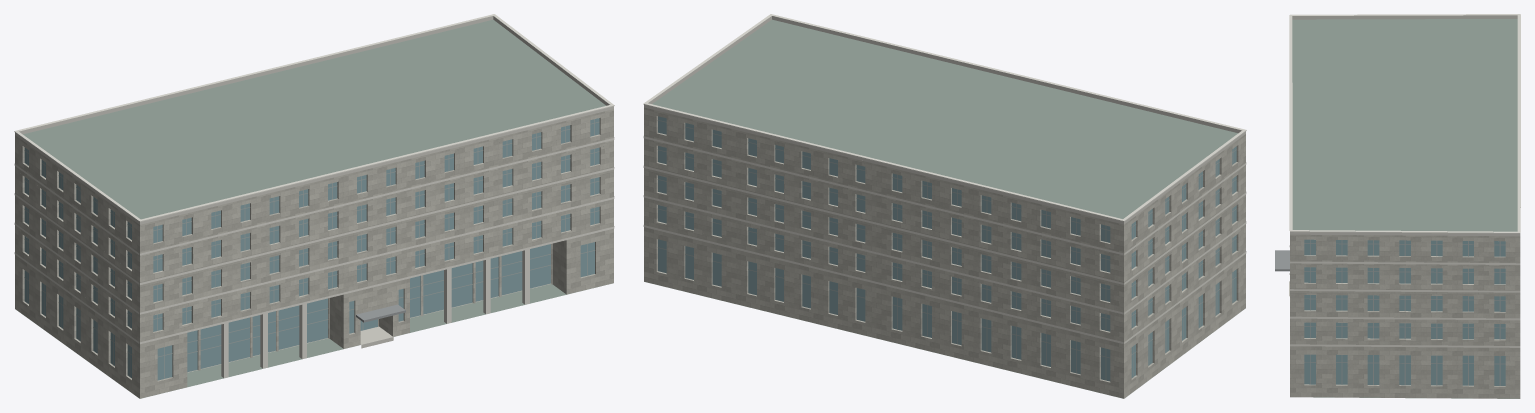
3 renders of one model, left to right at view 1: azimuth 30°, elevation 25°; view 2: azimuth 150°, elevation 25°; view 3: azimuth 270°, elevation 25°, orthographic. The views are drawn at different scales.
Parts seen in each view (by area): view 1: hongjae__wall, hongjae__roof, hongjae__glass, hongjae__trim, hongjae__parapet, hongjae__frame, hongjae__column; view 2: hongjae__wall, hongjae__roof, hongjae__glass, hongjae__trim, hongjae__parapet, hongjae__frame; view 3: hongjae__roof, hongjae__wall, hongjae__glass, hongjae__trim, hongjae__parapet, hongjae__frame, hongjae__canopy.
Part boxes in pixels (x1=…): hongjae__wall: x1=15, y1=109, x2=613, y2=398; hongjae__roof: x1=17, y1=19, x2=612, y2=398; hongjae__glass: x1=24, y1=118, x2=599, y2=380; hongjae__trim: x1=14, y1=14, x2=614, y2=344; hongjae__parapet: x1=15, y1=16, x2=613, y2=224; hongjae__frame: x1=24, y1=119, x2=599, y2=378; hongjae__column: x1=221, y1=249, x2=529, y2=378; hongjae__wall: x1=644, y1=107, x2=1245, y2=398; hongjae__roof: x1=644, y1=19, x2=1245, y2=398; hongjae__glass: x1=658, y1=116, x2=1236, y2=381; hongjae__trim: x1=643, y1=14, x2=1246, y2=343; hongjae__parapet: x1=644, y1=16, x2=1245, y2=224; hongjae__frame: x1=657, y1=120, x2=1236, y2=380; hongjae__roof: x1=1292, y1=19, x2=1518, y2=398; hongjae__wall: x1=1290, y1=234, x2=1520, y2=398; hongjae__glass: x1=1304, y1=239, x2=1505, y2=385; hongjae__trim: x1=1289, y1=14, x2=1520, y2=347; hongjae__parapet: x1=1290, y1=15, x2=1520, y2=236; hongjae__frame: x1=1304, y1=239, x2=1505, y2=385; hongjae__canopy: x1=1275, y1=250, x2=1289, y2=271.
Bounding box in the file's own units: 59.54 × 21.45 × 28.24.
10 materials, 1 textured.
